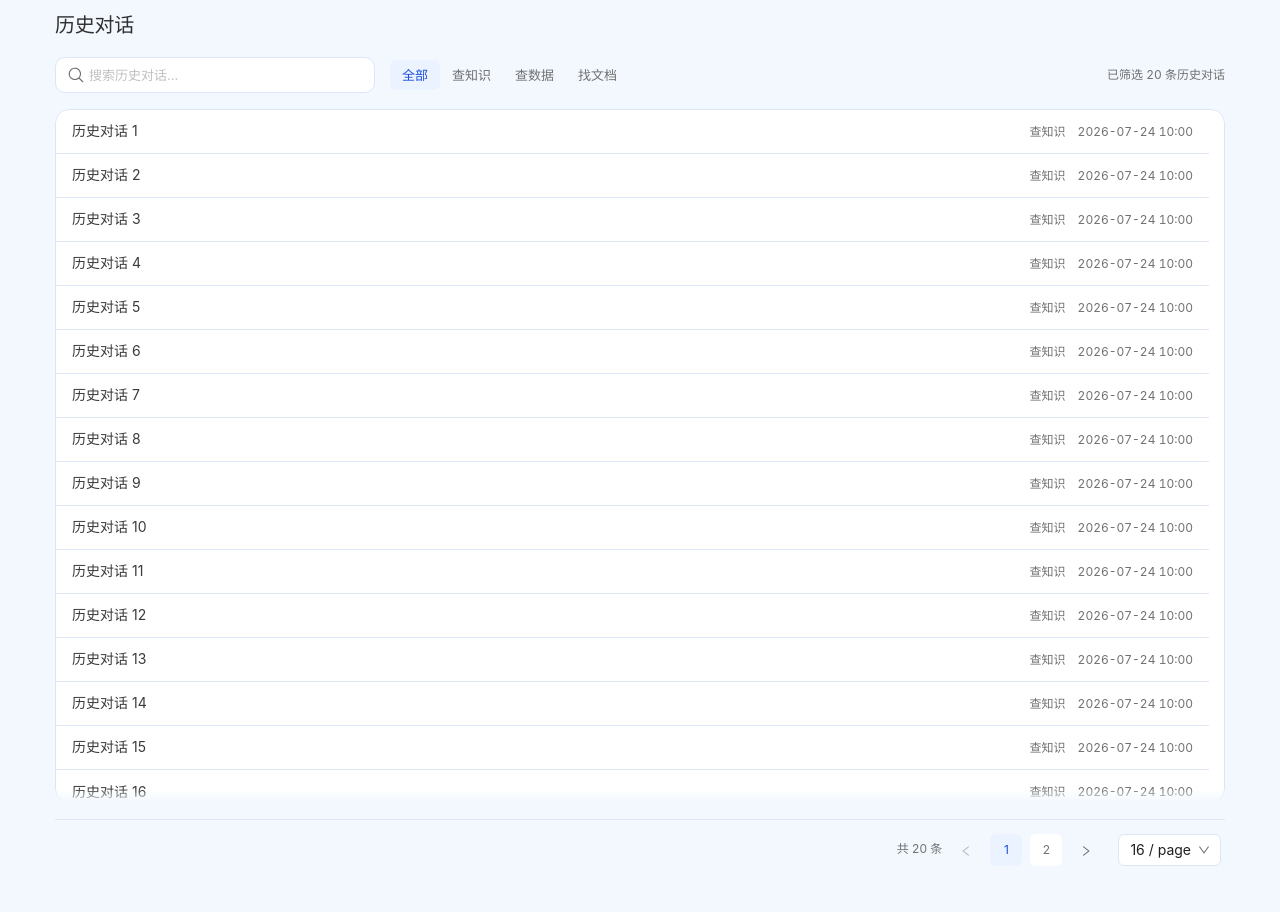
Test: HistoryPage › paginates history sessions and avoids refetching when filters change
Check: the heading "历史对话 1" is shown, box [72,122,138,139]
Check: the heading "历史对话 16" is shown, box [72,783,146,800]
Click the list item titled "2" at (1046, 850), box [1030,834,1062,866]
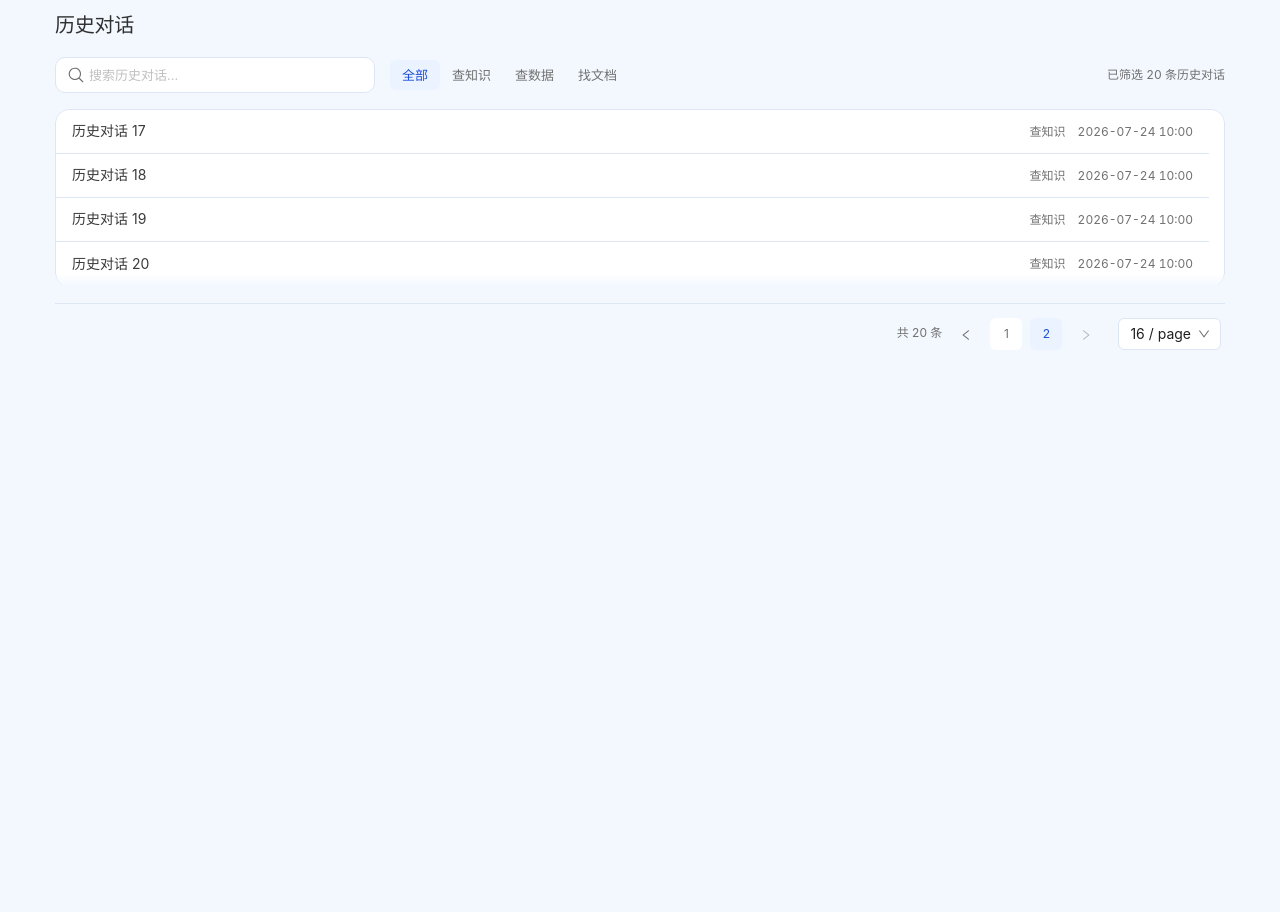
Check: the heading "历史对话 17" is shown, box [72,122,146,139]
Type "10" into the field named "历史搜索" at (218, 75), box [89,62,347,88]
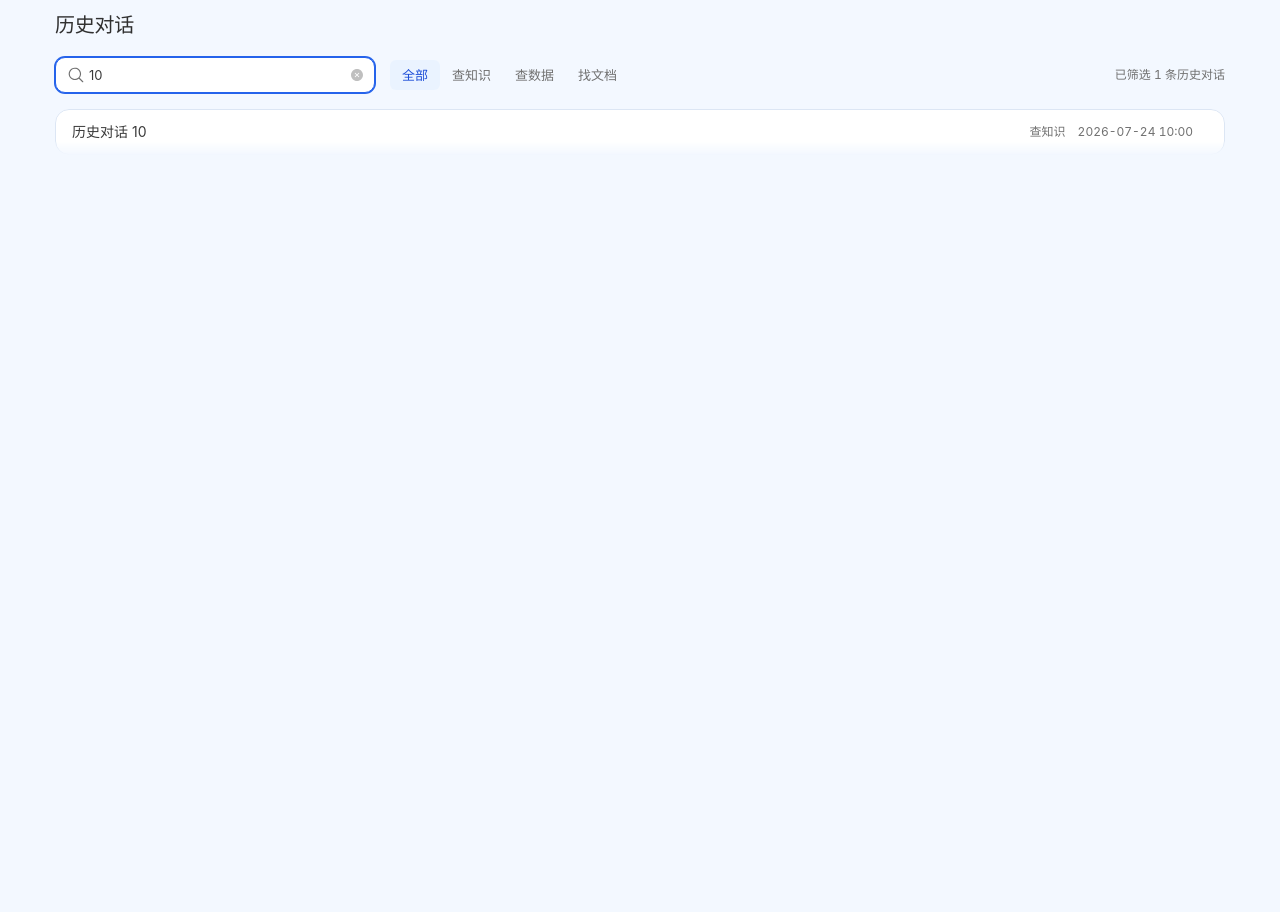
Check: the heading "历史对话 10" is shown, box [72,123,146,140]
Check: the button "历史对话 17" is gone
